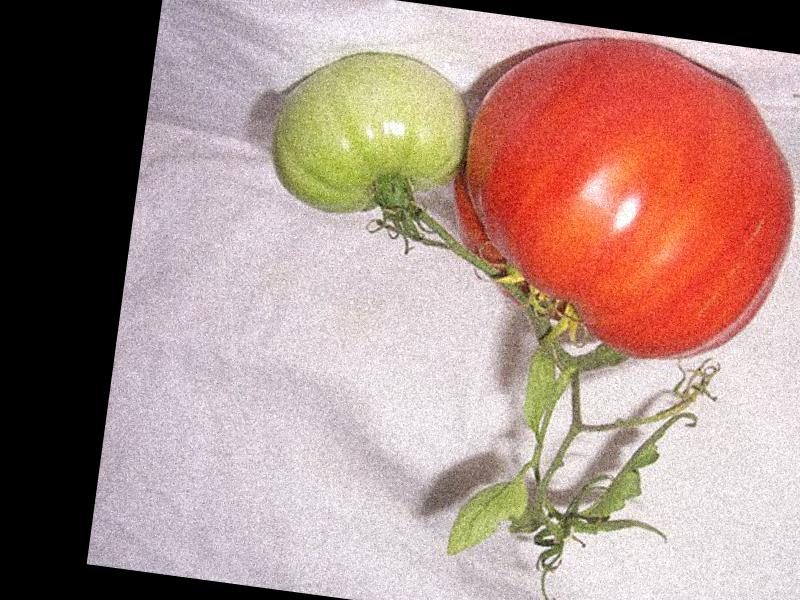Tomato: (433, 21, 800, 376)
